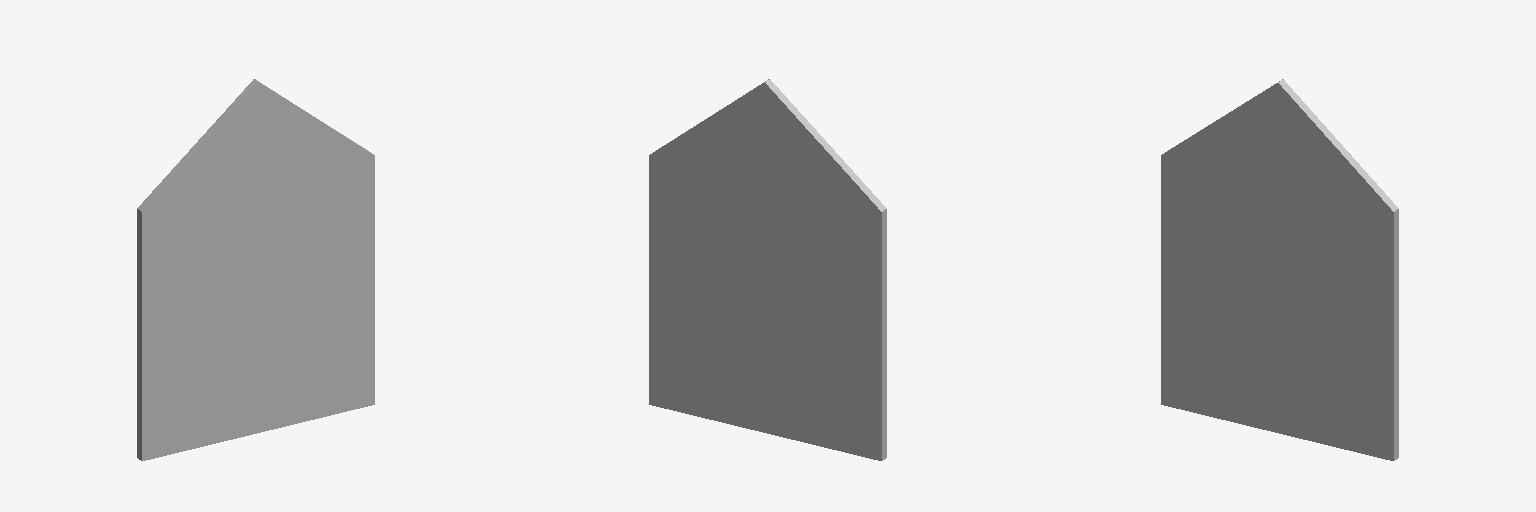
File: door.obj
3 renders of one model, left to right at view 1: azimuth 30°, elevation 25°; view 2: azimuth 150°, elevation 25°; view 3: azimuth 330°, elevation 25°, orthographic.
Visible parts, largest first — view 1: pCube2; view 2: pCube2; view 3: pCube2.
Part boxes in pixels (left/top/right/bottom): pCube2: left=137, top=79, right=374, bottom=460; pCube2: left=649, top=79, right=886, bottom=460; pCube2: left=1161, top=79, right=1398, bottom=460.
Size of the model in its own units: 5.8 by 8.36 by 0.2172.